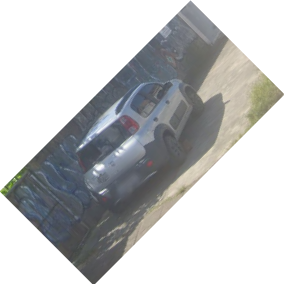car: (75, 77, 206, 209)
